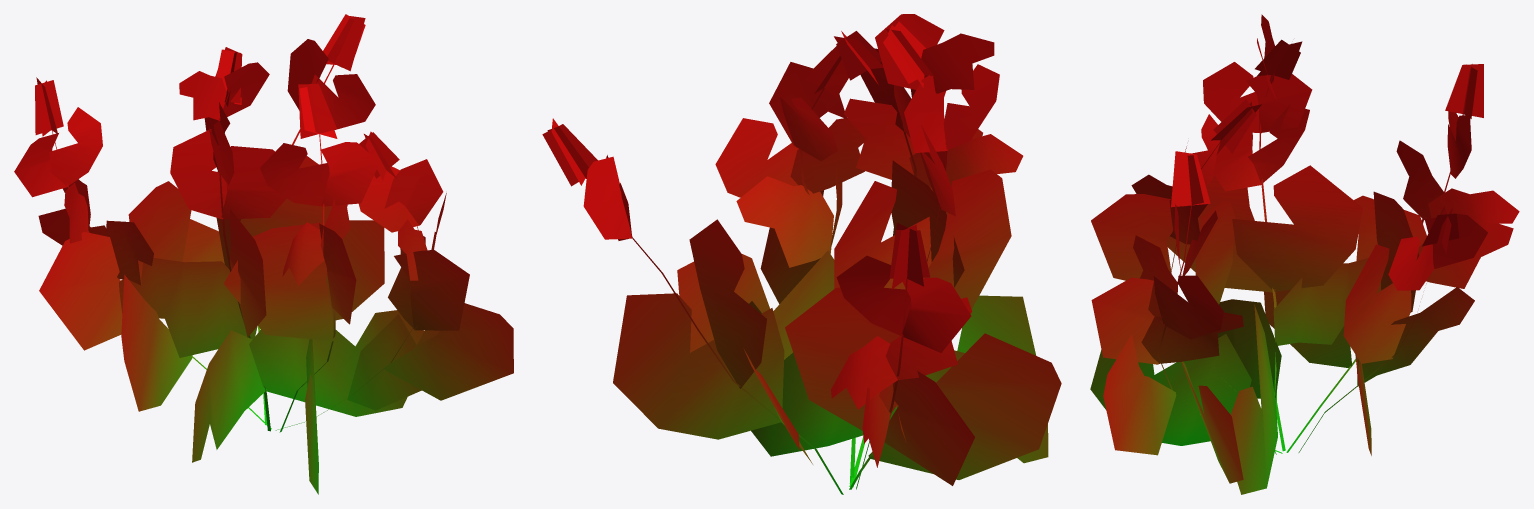
File: White Ramping Fumitory_LOD3_Var1_ti4efc3ia.fbx
The picture shows the model from 3 angles, left to right: view 1: azimuth 30°, elevation 25°; view 2: azimuth 150°, elevation 25°; view 3: azimuth 270°, elevation 25°; orthographic projection. The views are drawn at different scales.
Parts seen in each view (by area): view 1: _fa4d_Var1_LOD3; view 2: _fa4d_Var1_LOD3; view 3: _fa4d_Var1_LOD3.
Part boxes in pixels (x1=…): _fa4d_Var1_LOD3: x1=14, y1=14, x2=513, y2=494; _fa4d_Var1_LOD3: x1=542, y1=14, x2=1061, y2=494; _fa4d_Var1_LOD3: x1=1090, y1=14, x2=1519, y2=494.
Size of the model in its own units: 82.13 by 87.51 by 86.22.
